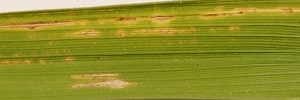RiceBacterialBlight: (1, 4, 300, 39), (1, 51, 136, 92)
